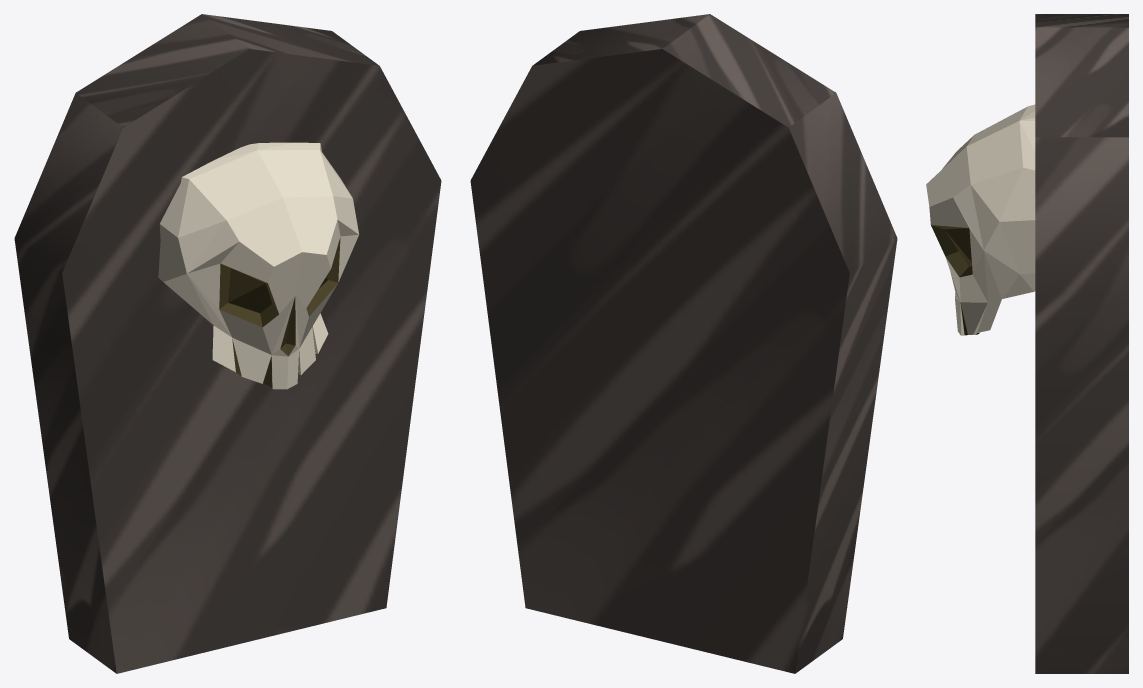
File: tombe.FBX
3 renders of one model, left to right at view 1: azimuth 30°, elevation 25°; view 2: azimuth 150°, elevation 25°; view 3: azimuth 270°, elevation 25°, orthographic.
Parts seen in each view (by area): view 1: Box014; view 2: Box014; view 3: Box014.
Part boxes in pixels (x1,y1,x2,y2): Box014: (14, 14, 441, 673); Box014: (470, 14, 897, 673); Box014: (926, 14, 1128, 673).
Size of the model in its own units: 74.94 by 112 by 35.37.
Materials: 1 (1 with a texture image).
